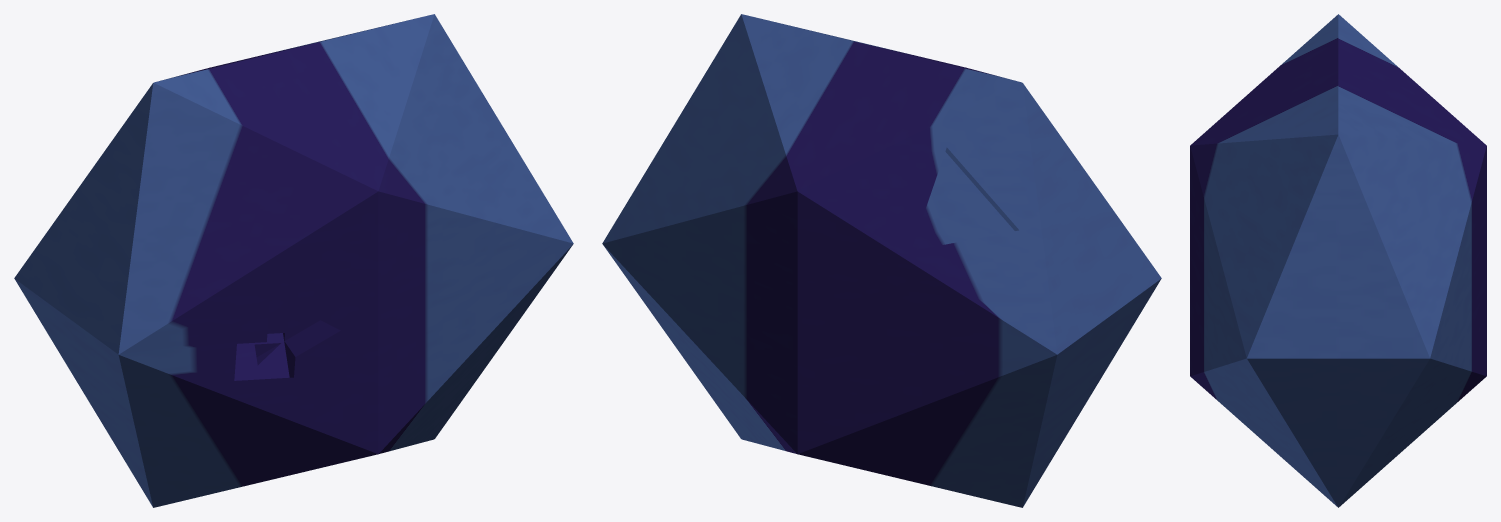
3 renders of one model, left to right at view 1: azimuth 30°, elevation 25°; view 2: azimuth 150°, elevation 25°; view 3: azimuth 270°, elevation 25°, orthographic. The views are drawn at different scales.
Visible parts, largest first — view 1: geometry_0; view 2: geometry_0; view 3: geometry_0.
Part boxes in pixels (x1,y1,x2,y2): geometry_0: (14,14,573,507); geometry_0: (602,14,1161,507); geometry_0: (1190,14,1486,507).
Bounding box in the file's own units: 1.58 × 1.41 × 1.02.
1 material, 1 textured.
